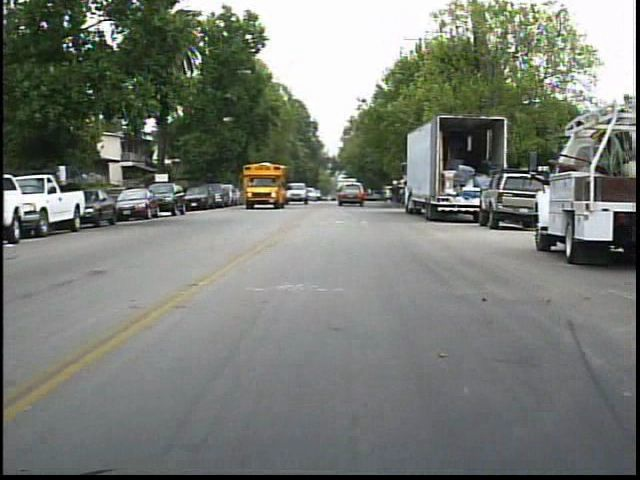person: (390, 177, 408, 213)
